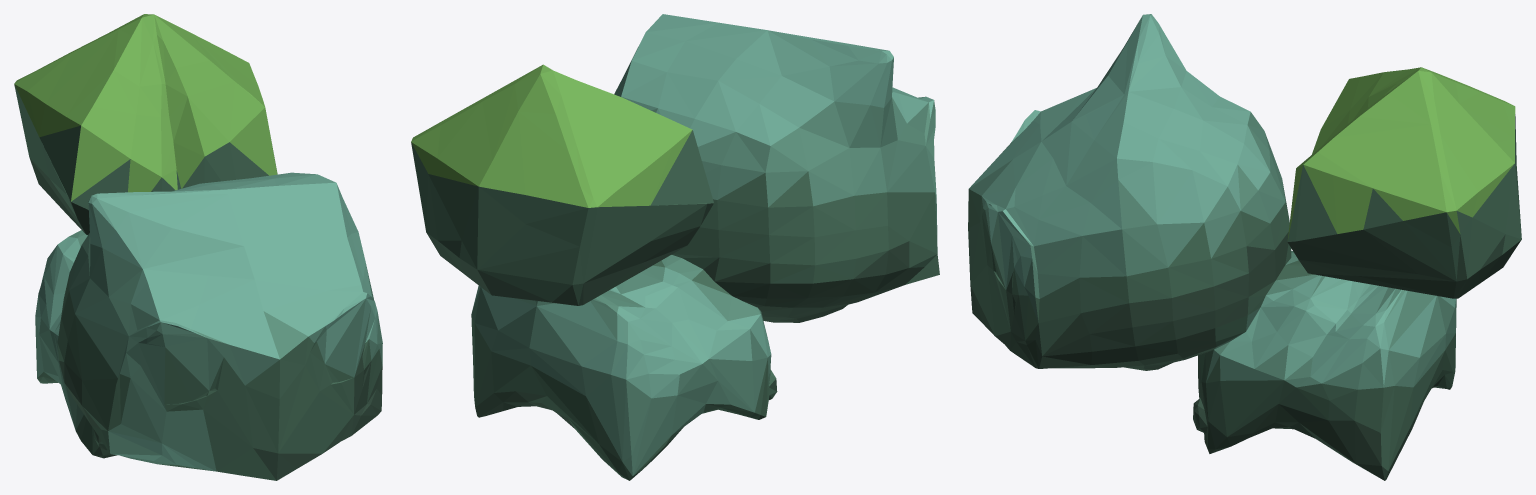
File: tripo-creature-01.glb
3 renders of one model, left to right at view 1: azimuth 30°, elevation 25°; view 2: azimuth 150°, elevation 25°; view 3: azimuth 270°, elevation 25°, orthographic. The views are drawn at different scales.
Visible parts, largest first — view 1: Body; view 2: Body; view 3: Body.
Boxes of the visible parts, bbox=[...] form: Body: bbox=[14, 14, 382, 480]; Body: bbox=[411, 14, 939, 480]; Body: bbox=[968, 14, 1521, 480].
Size of the model in its own units: 0.7262 by 0.8 by 1.07.
